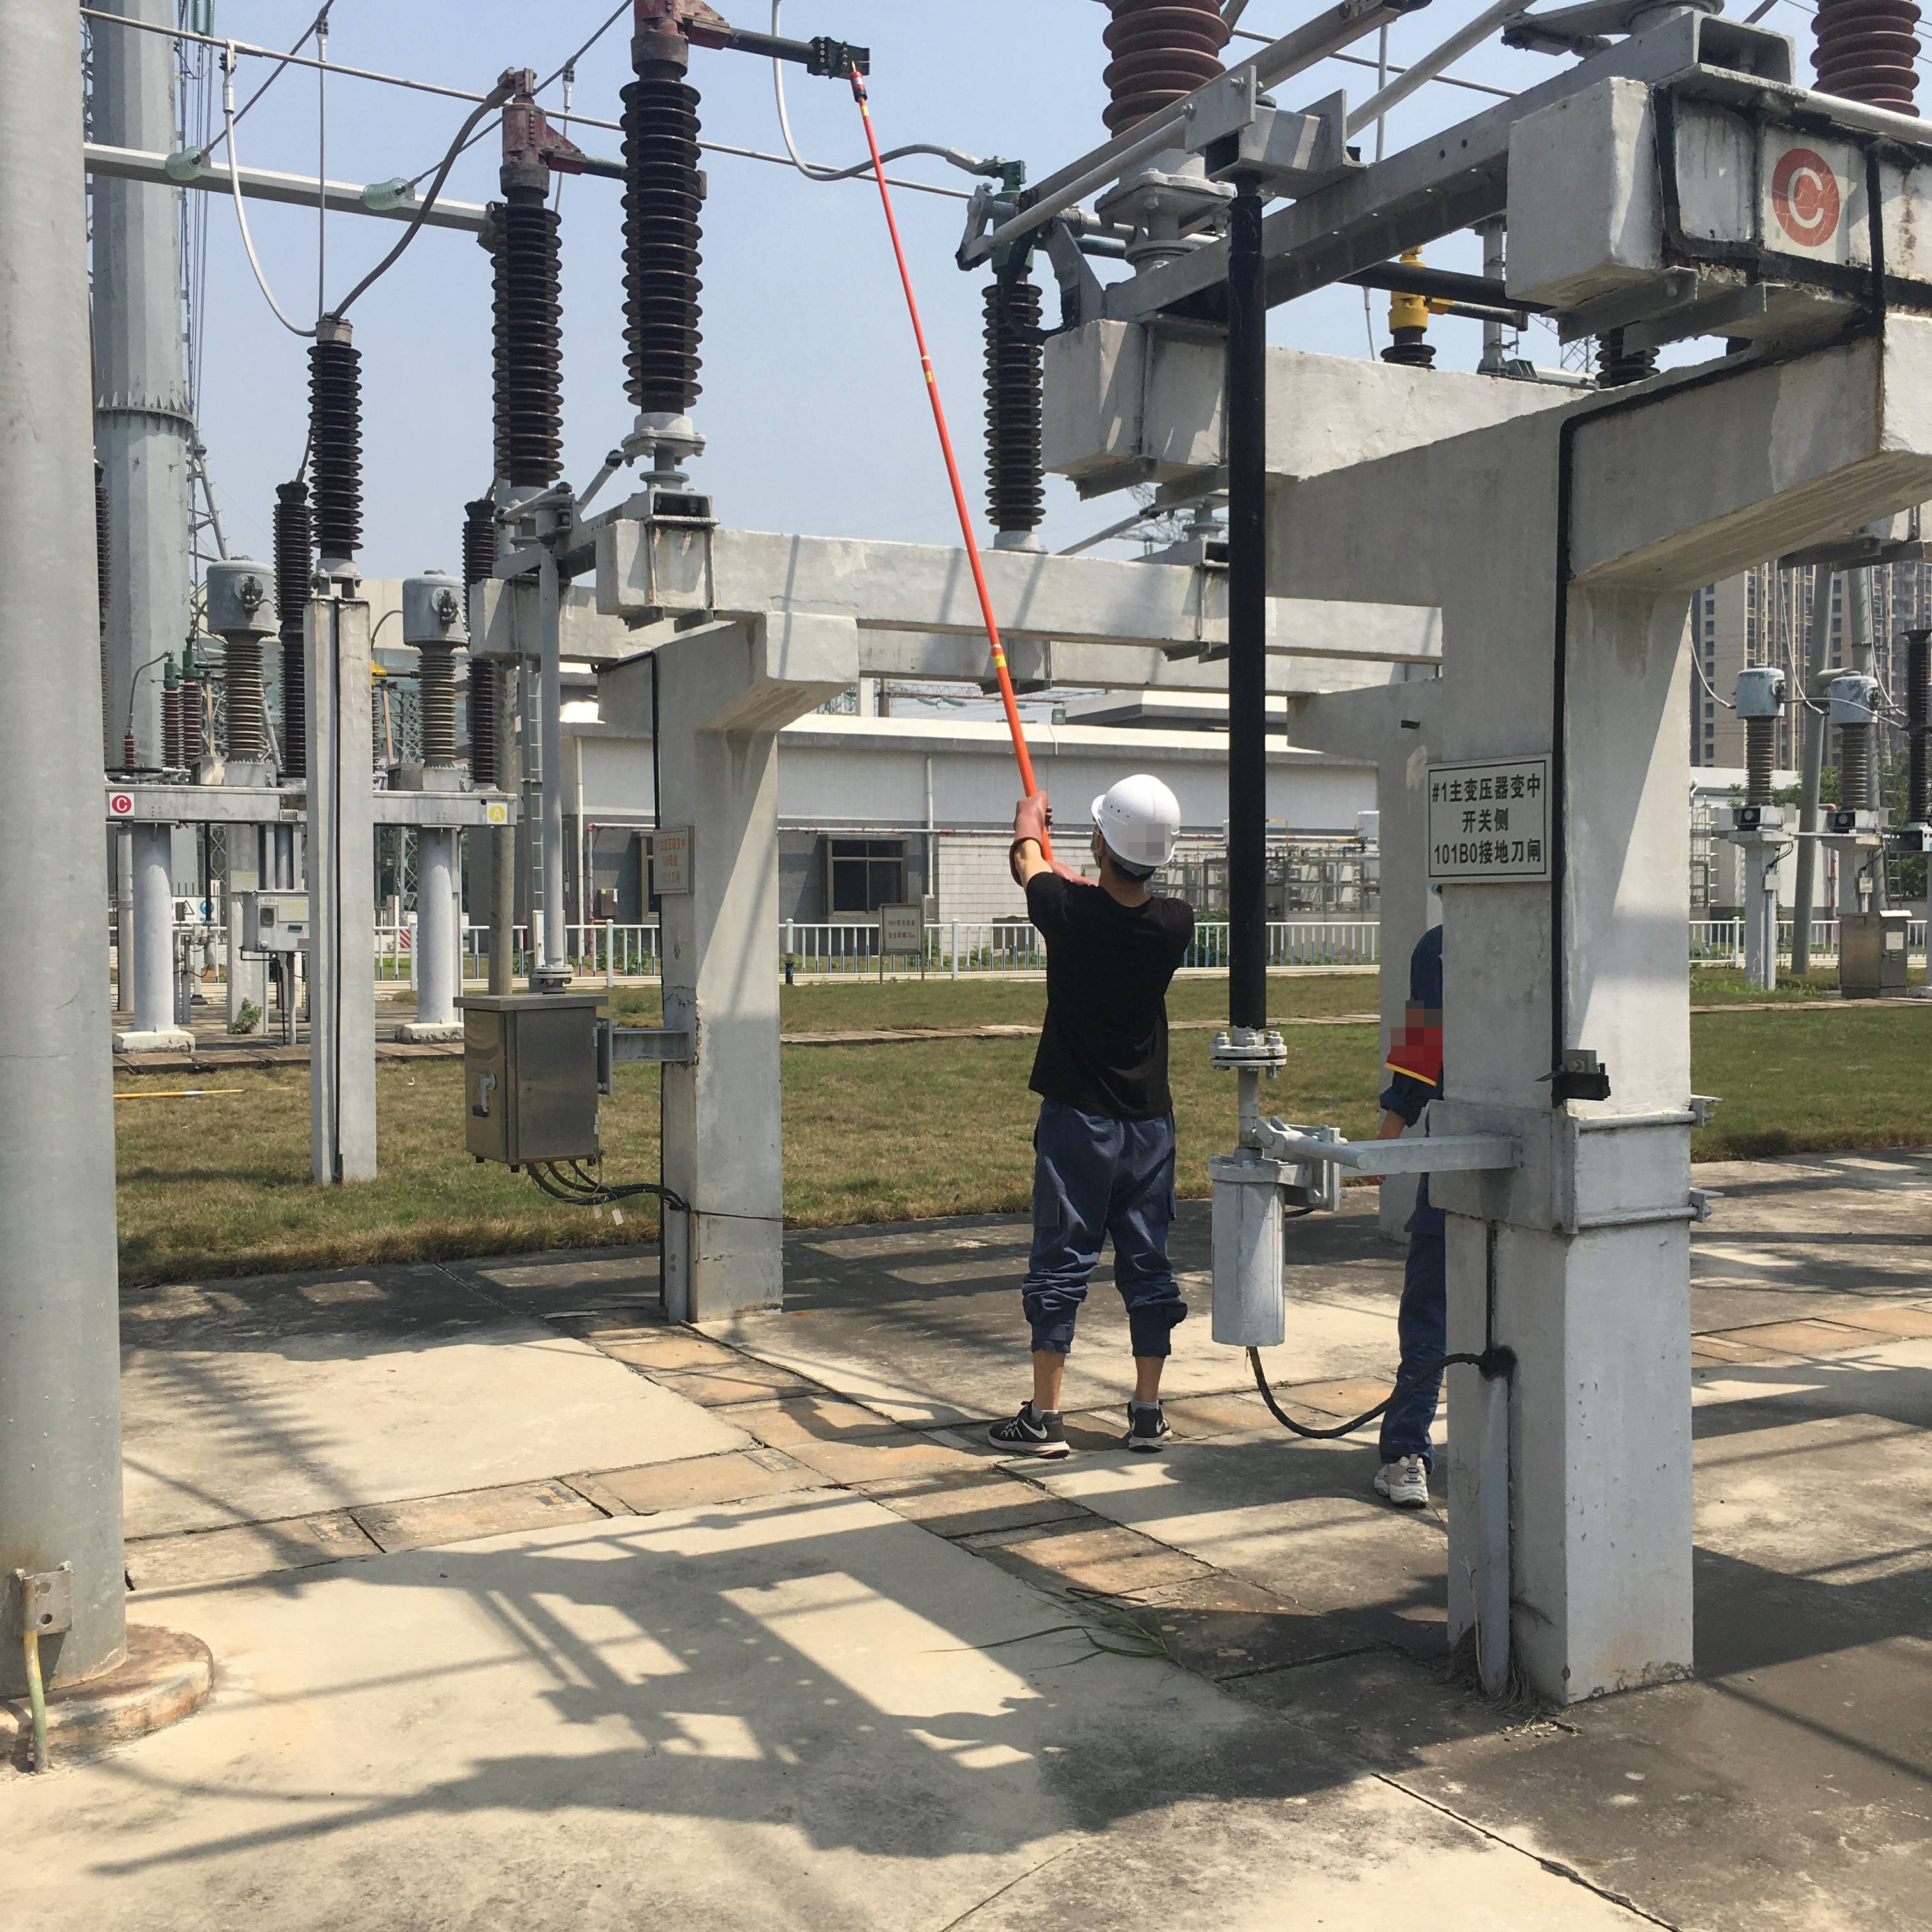downsuit: (1016, 1109, 1196, 1361)
upcloth: (1031, 883, 1189, 1102)
wrongbottom: (1012, 1330, 1178, 1428)
